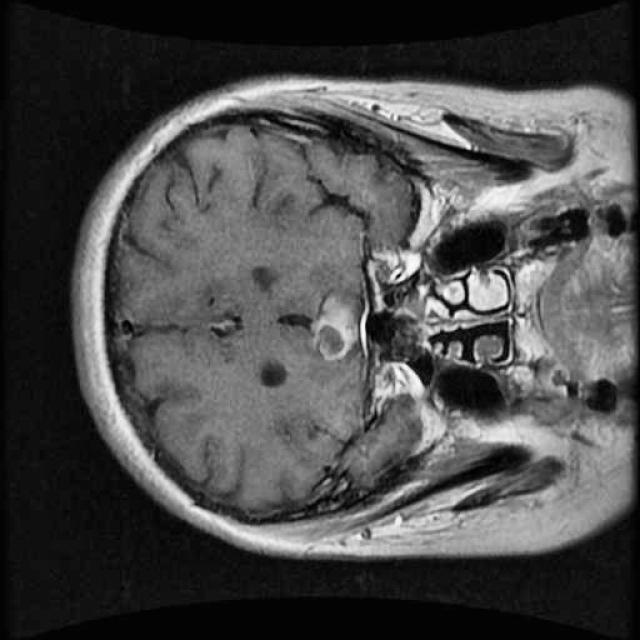Tumor: (309, 274, 370, 365)
